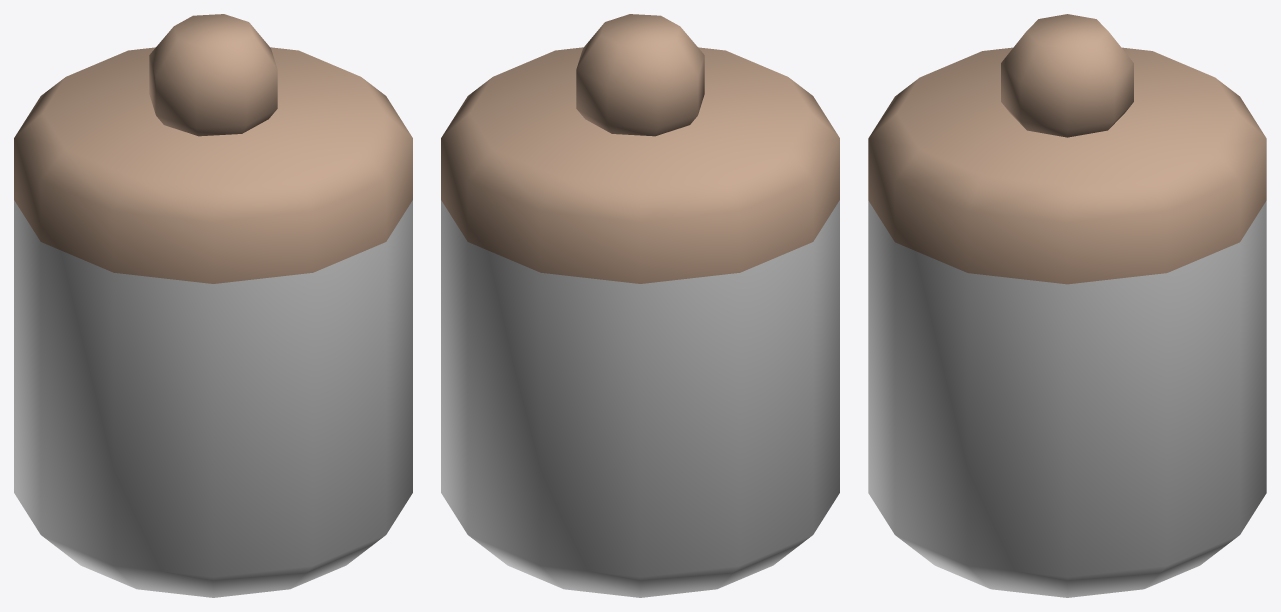
File: jar-wooden-top-filled.glb
3 views of the same model, side by side, from view 1: azimuth 30°, elevation 25°; view 2: azimuth 150°, elevation 25°; view 3: azimuth 270°, elevation 25° (orthographic).
Parts seen in each view (by area): view 1: jar-wooden-top-filled; view 2: jar-wooden-top-filled; view 3: jar-wooden-top-filled.
Boxes of the visible parts, left/top/right/bottom form: jar-wooden-top-filled: left=14, top=14, right=412, bottom=597; jar-wooden-top-filled: left=441, top=14, right=839, bottom=597; jar-wooden-top-filled: left=868, top=14, right=1266, bottom=597.
Size of the model in its own units: 0.1791 by 0.2489 by 0.1791.
